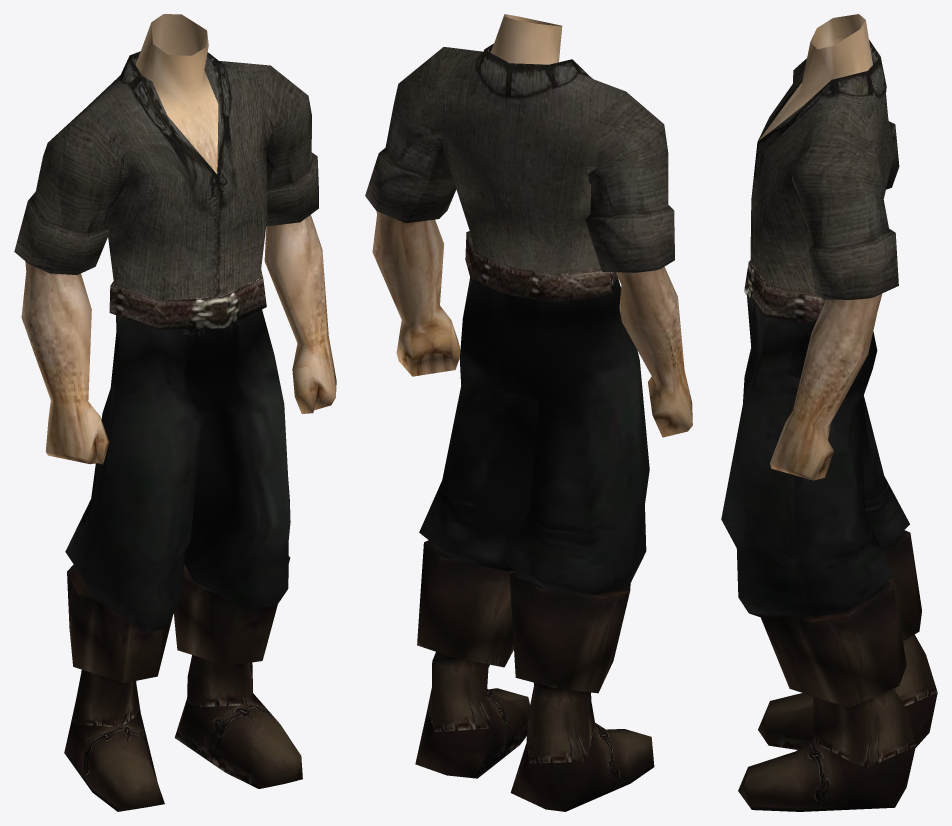
Rendered from KOSZULA_SZARA.glb.
3 views of the same model, side by side, from view 1: azimuth 30°, elevation 25°; view 2: azimuth 150°, elevation 25°; view 3: azimuth 270°, elevation 25° (orthographic).
Visible parts, largest first — view 1: KOSZULA_SZARA; view 2: KOSZULA_SZARA; view 3: KOSZULA_SZARA.
Boxes of the visible parts, x1=… form: KOSZULA_SZARA: x1=14, y1=14, x2=336, y2=811; KOSZULA_SZARA: x1=365, y1=14, x2=692, y2=811; KOSZULA_SZARA: x1=721, y1=14, x2=937, y2=811.
Bounding box in the file's own units: 0.6885 × 1.68 × 0.4402.
Materials: 2 (2 with a texture image).
